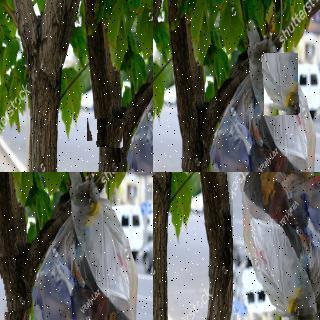Garbage: (228, 172, 320, 320), (263, 52, 299, 116), (0, 254, 30, 312), (97, 119, 124, 147), (87, 119, 100, 141), (100, 107, 112, 122), (108, 111, 119, 123)
